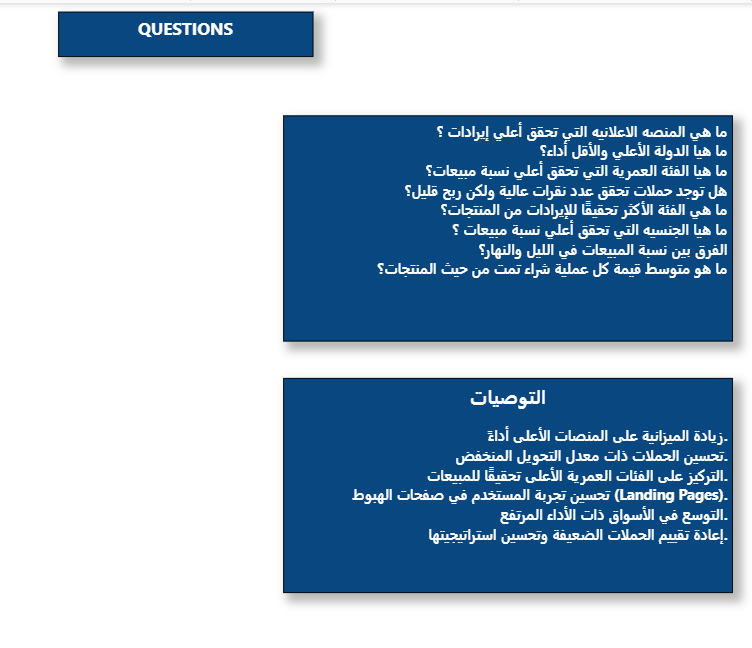

This screenshot's page, from the dashboard's own definition file:
{"tool":"powerbi","page":{"name":"Question Analysis","canvas":[1280,720],"ordinal":3},"visuals":[{"type":"textbox","box":[10,0,280,280],"z":0},{"type":"textbox","box":[758.8,123.5,494,248.4],"z":1000},{"type":"textbox","box":[511.8,9.6,279.9,49.4],"z":2000},{"type":"textbox","box":[758.8,411.7,494,236],"z":3000}]}

Visuals, with their boxes on the page's 1280x720 design canvas (x1, y1, x2, y2). These are canvas units, not pixel positions in the 752x648 screenshot, which may show the page scaled, cropped or inside an application window:
textbox: (10,0,290,280)
textbox: (759,124,1253,372)
textbox: (512,10,792,59)
textbox: (759,412,1253,648)
